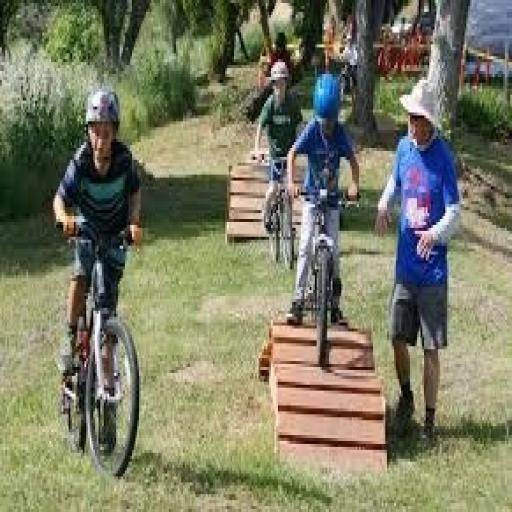cycling: (51, 86, 146, 453), (373, 77, 466, 447), (284, 71, 362, 331), (252, 56, 306, 264)
